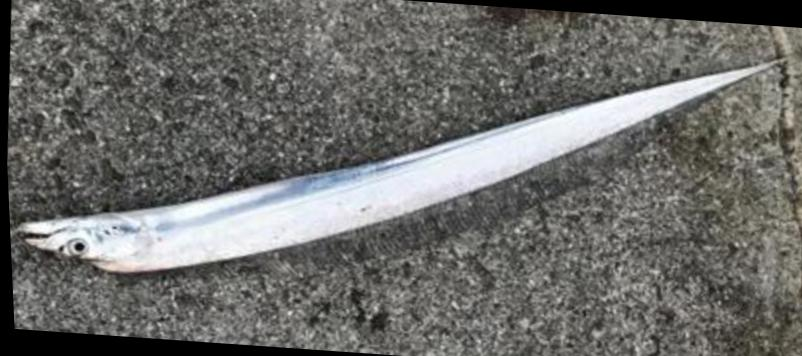fish: (16, 63, 771, 272)
